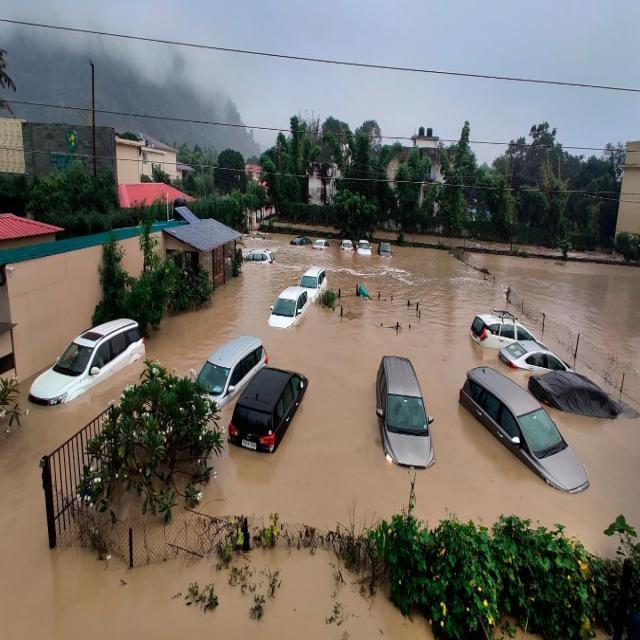flood: (147, 255, 640, 556), (0, 364, 435, 640), (242, 234, 640, 370), (111, 486, 224, 568)
house: (110, 128, 190, 210), (166, 212, 240, 296), (609, 139, 640, 239), (0, 211, 64, 252), (1, 111, 28, 198)
